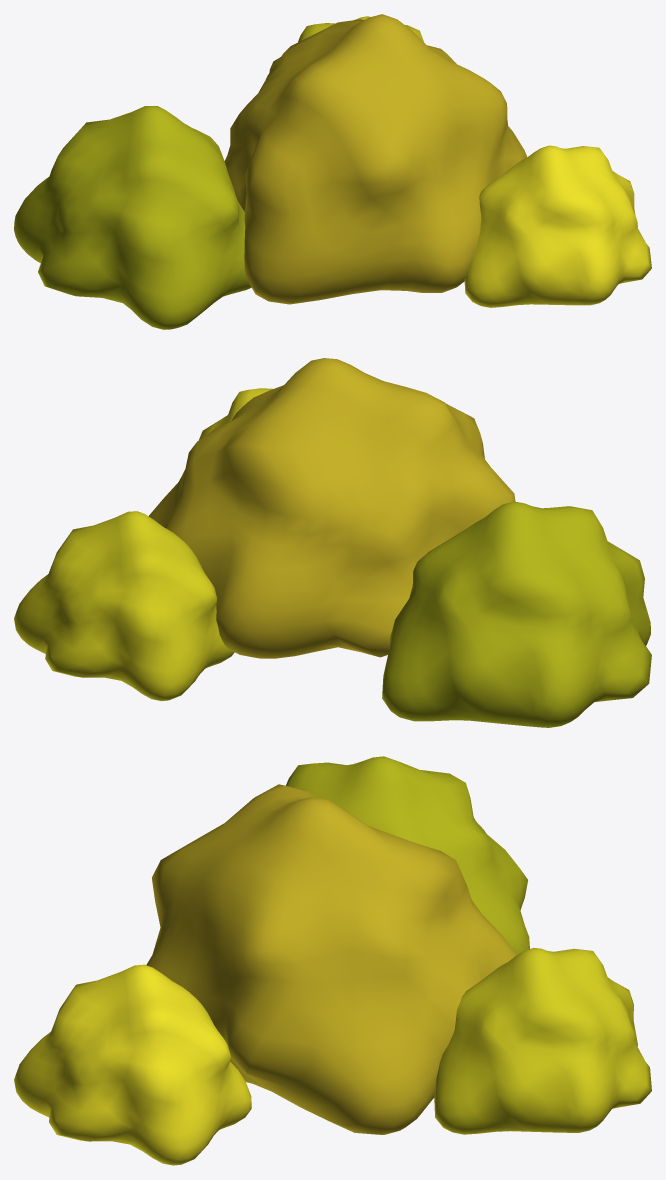
Rendered from bushes_yellow (2).fbx.
3 views of the same model, one above another, from view 1: azimuth 30°, elevation 25°; view 2: azimuth 150°, elevation 25°; view 3: azimuth 270°, elevation 25° (orthographic). The views are drawn at different scales.
Visible parts, largest first — view 1: Icosphere.001; view 2: Icosphere.001; view 3: Icosphere.001.
Boxes of the visible parts, x1,y1,x2,y2 form: Icosphere.001: (14, 14, 651, 329); Icosphere.001: (14, 358, 651, 727); Icosphere.001: (14, 756, 651, 1165).
Size of the model in its own units: 519 by 229 by 490.
